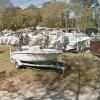Boat: (5, 41, 73, 74)
